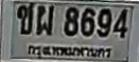4: (113, 8, 126, 37)
6: (80, 7, 94, 35)
8: (63, 6, 78, 35)
9: (96, 8, 111, 36)
A10: (16, 2, 34, 34)
A28: (35, 4, 54, 35)
BKK: (24, 42, 114, 61)
